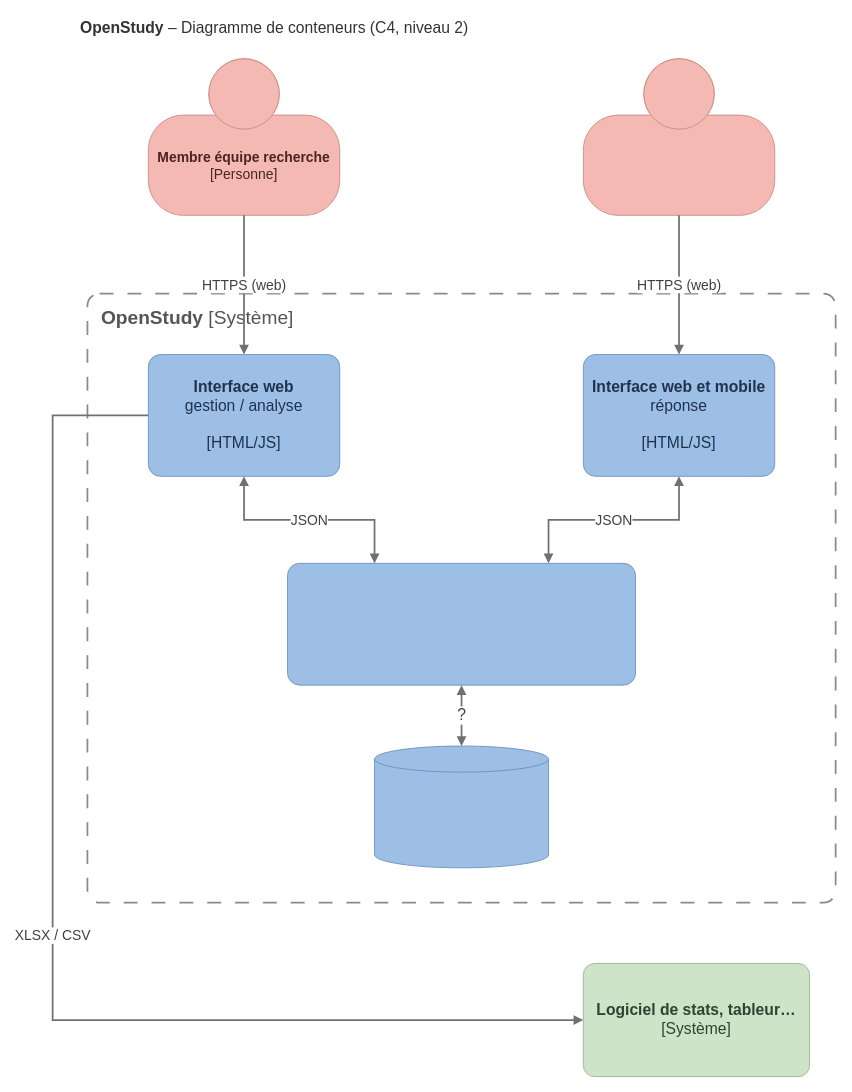
The diagram is 852 pixels wide and 1092 high, and some of its shapes have lost their labels. Each missing label, with the centre of its shape:
"Base de données [?]" goes at (x=461, y=806).
"Participant [Personne]" goes at (x=678, y=136).
"Système de gestion (serveur) [Python + ?]" goes at (x=461, y=623).
